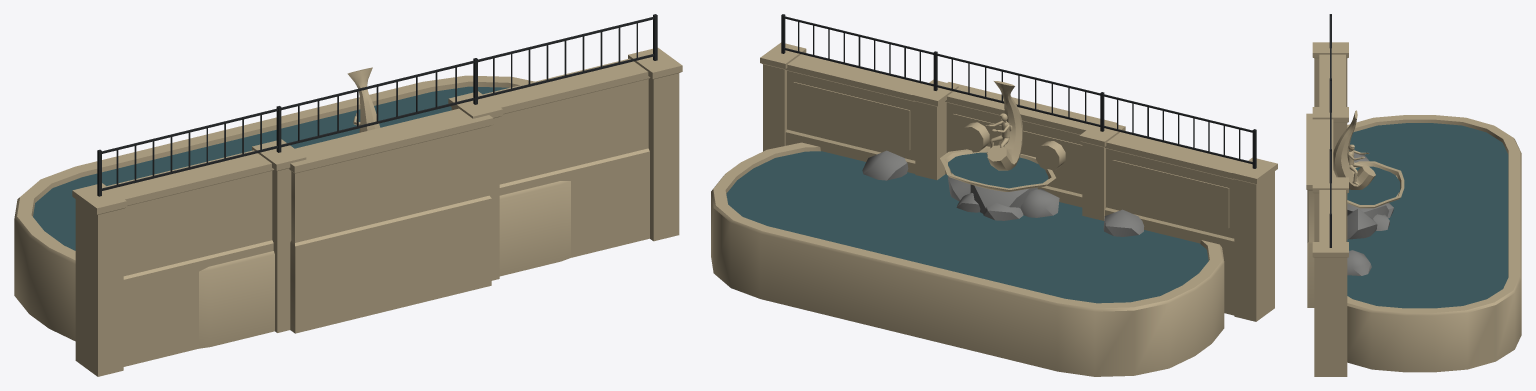
The model's file is mon_delphinbrunnen.glb.
The picture shows the model from 3 angles, left to right: view 1: azimuth 30°, elevation 25°; view 2: azimuth 150°, elevation 25°; view 3: azimuth 270°, elevation 25°; orthographic projection. The views are drawn at different scales.
Parts seen in each view (by area): view 1: mon_delphinbrunnen; view 2: mon_delphinbrunnen; view 3: mon_delphinbrunnen.
Boxes of the visible parts, box(x1,y1,x2,y2) form: mon_delphinbrunnen: box(14, 14, 682, 376); mon_delphinbrunnen: box(711, 14, 1277, 376); mon_delphinbrunnen: box(1306, 14, 1521, 376).
Size of the model in its own units: 13.7 by 4.81 by 5.92.
